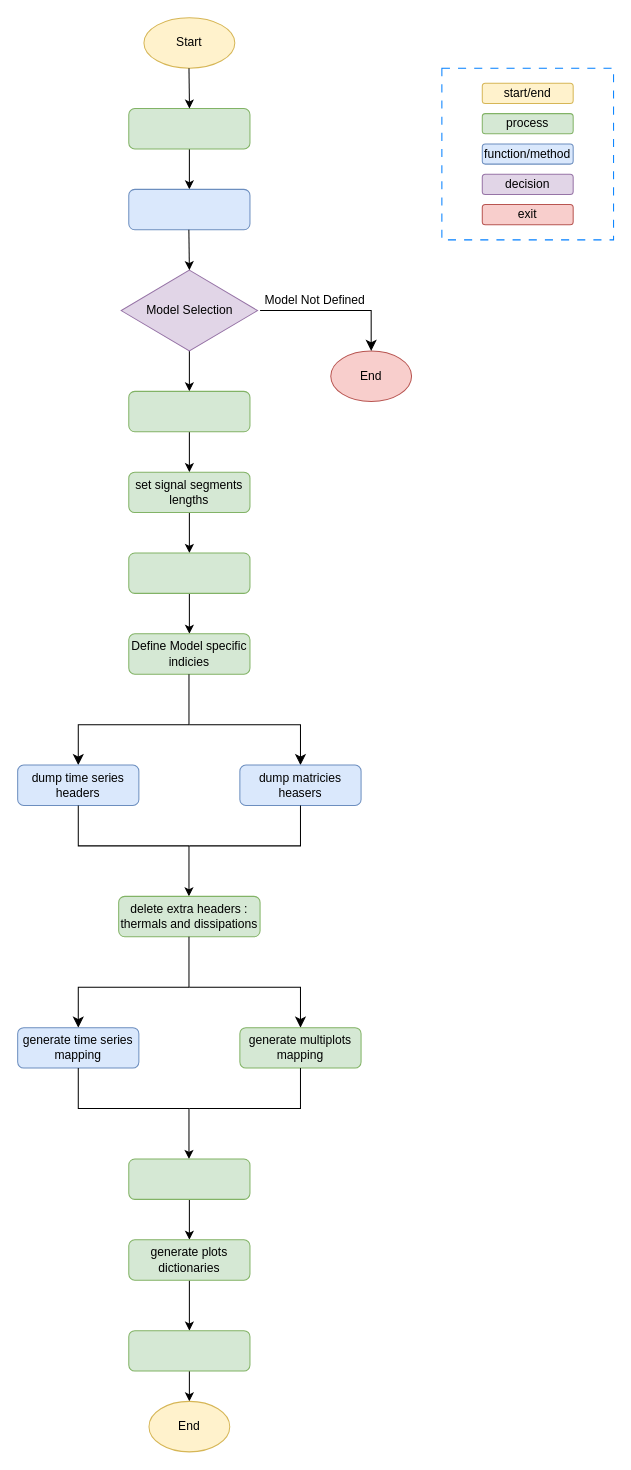
Some shapes in this 631 by 1470 pixel diagram are drawn without their labels. The centre of each missing label's shape, as x and y in pixels:
generate operational constants dictionary: [189,1350]
generate pwms dictionary: [189,1178]
Initialize Variables: [189,128]
load json raw signal mappings: [189,572]
select_mappng(): [189,209]
set matrix names and operations: [189,411]
